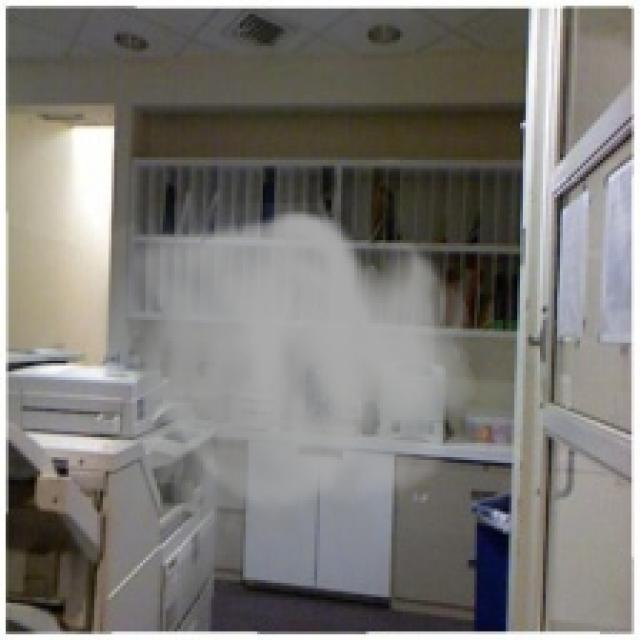smoke: (80, 203, 477, 617)
